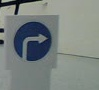right: (13, 22, 52, 61)
